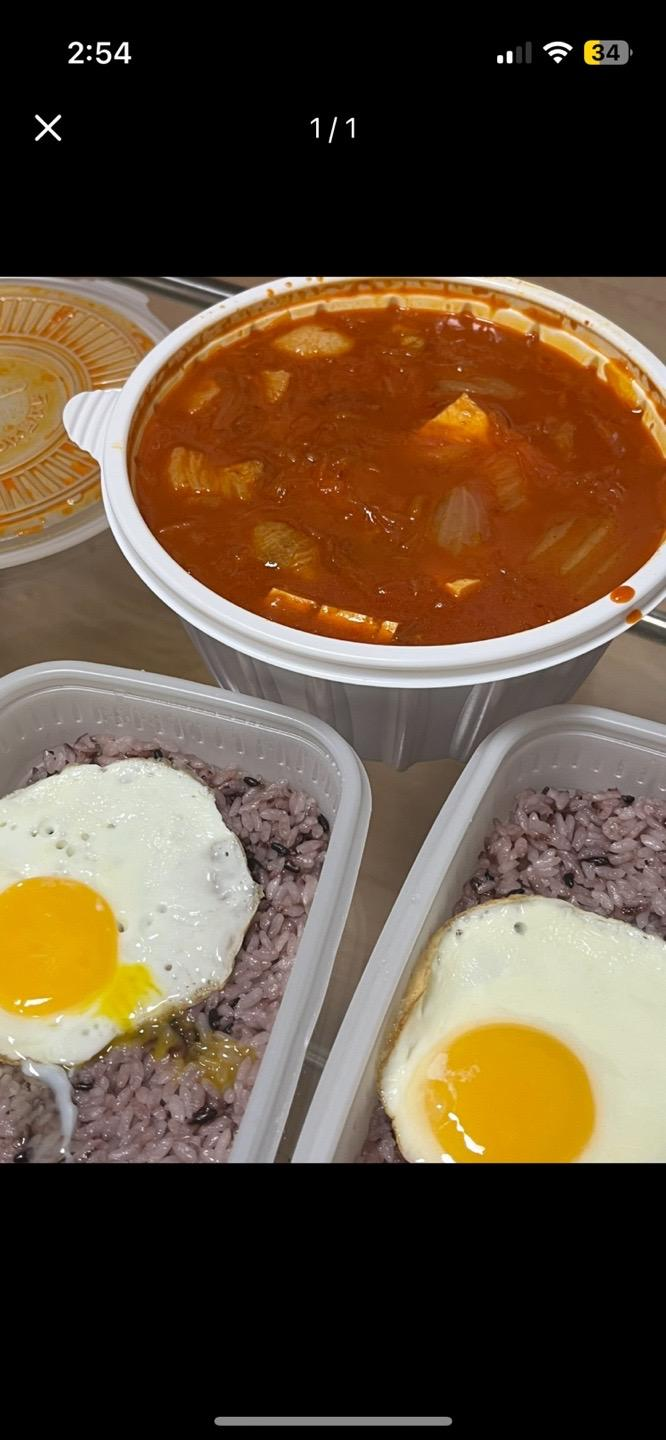Lunch Box: (63, 277, 665, 768), (0, 662, 370, 1162), (294, 706, 665, 1162), (0, 277, 168, 568)
